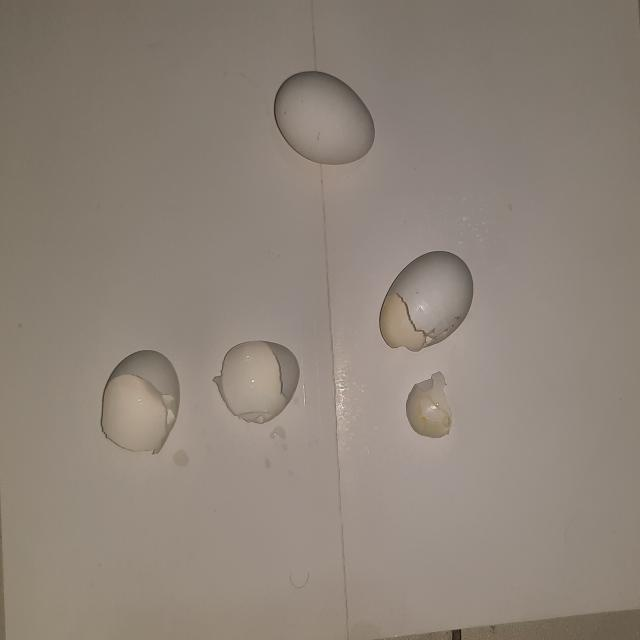egg shell: (96, 329, 306, 461), (373, 246, 481, 442), (264, 66, 378, 170), (376, 247, 478, 357), (94, 345, 184, 459), (208, 334, 306, 430)
